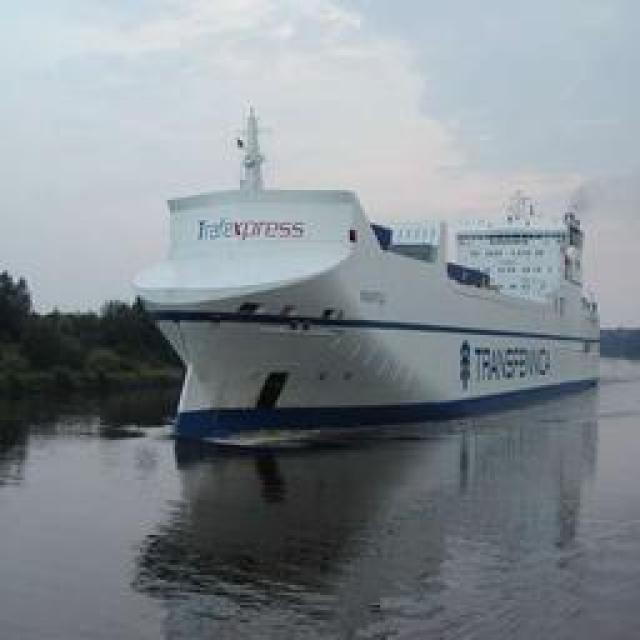Ship: (142, 111, 610, 444)
